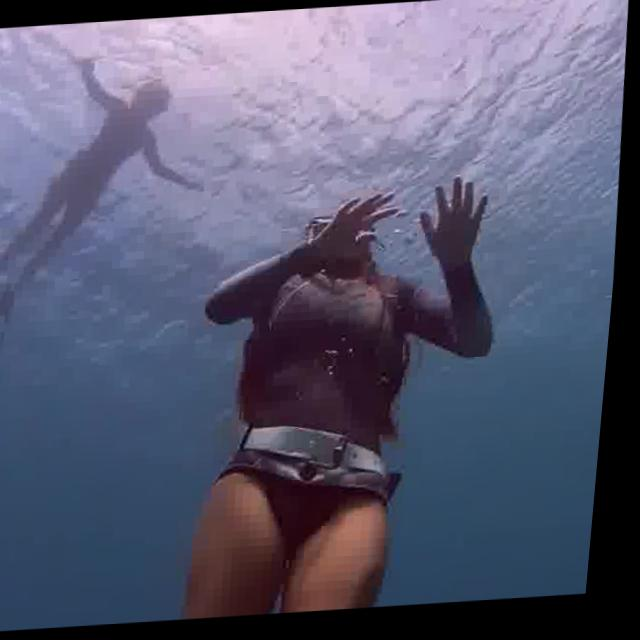human: (165, 159, 534, 622), (0, 33, 209, 353)
